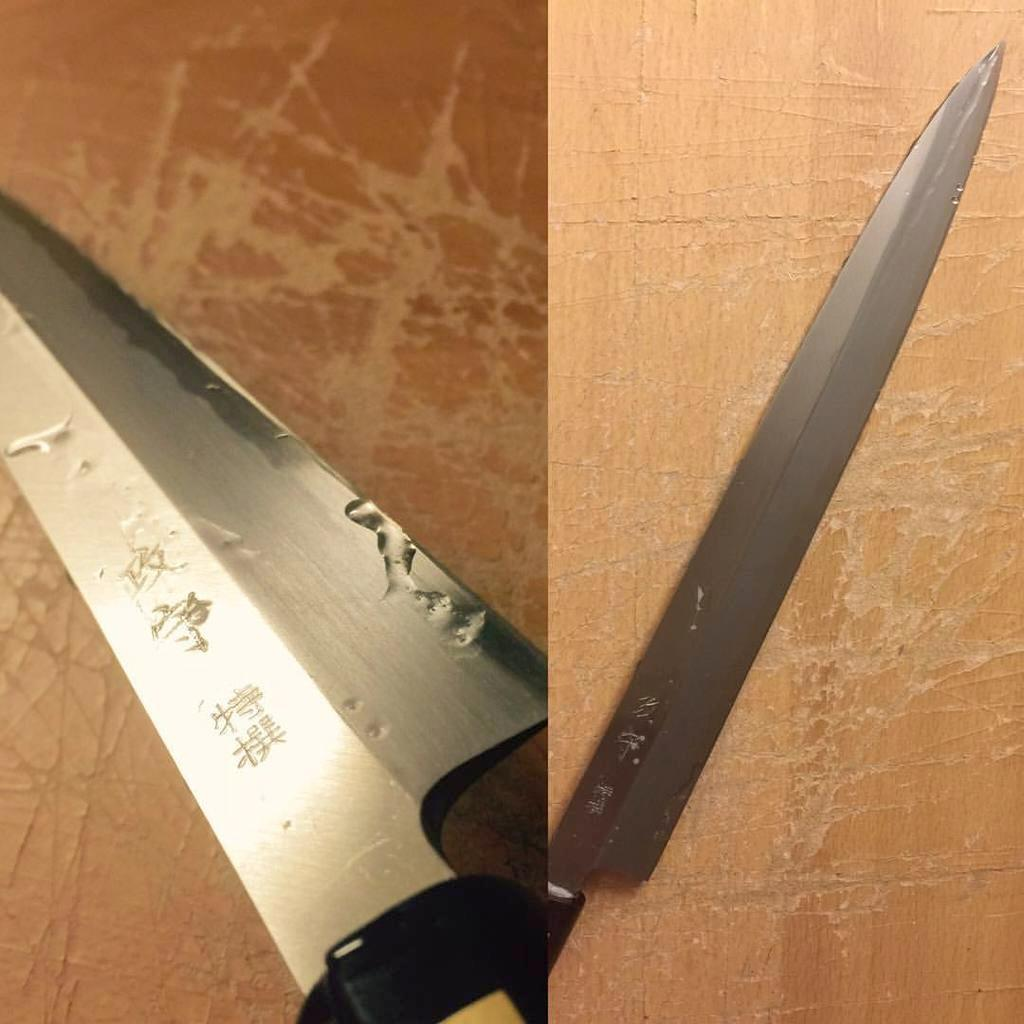melee: (0, 187, 549, 1024), (544, 43, 1007, 963)
